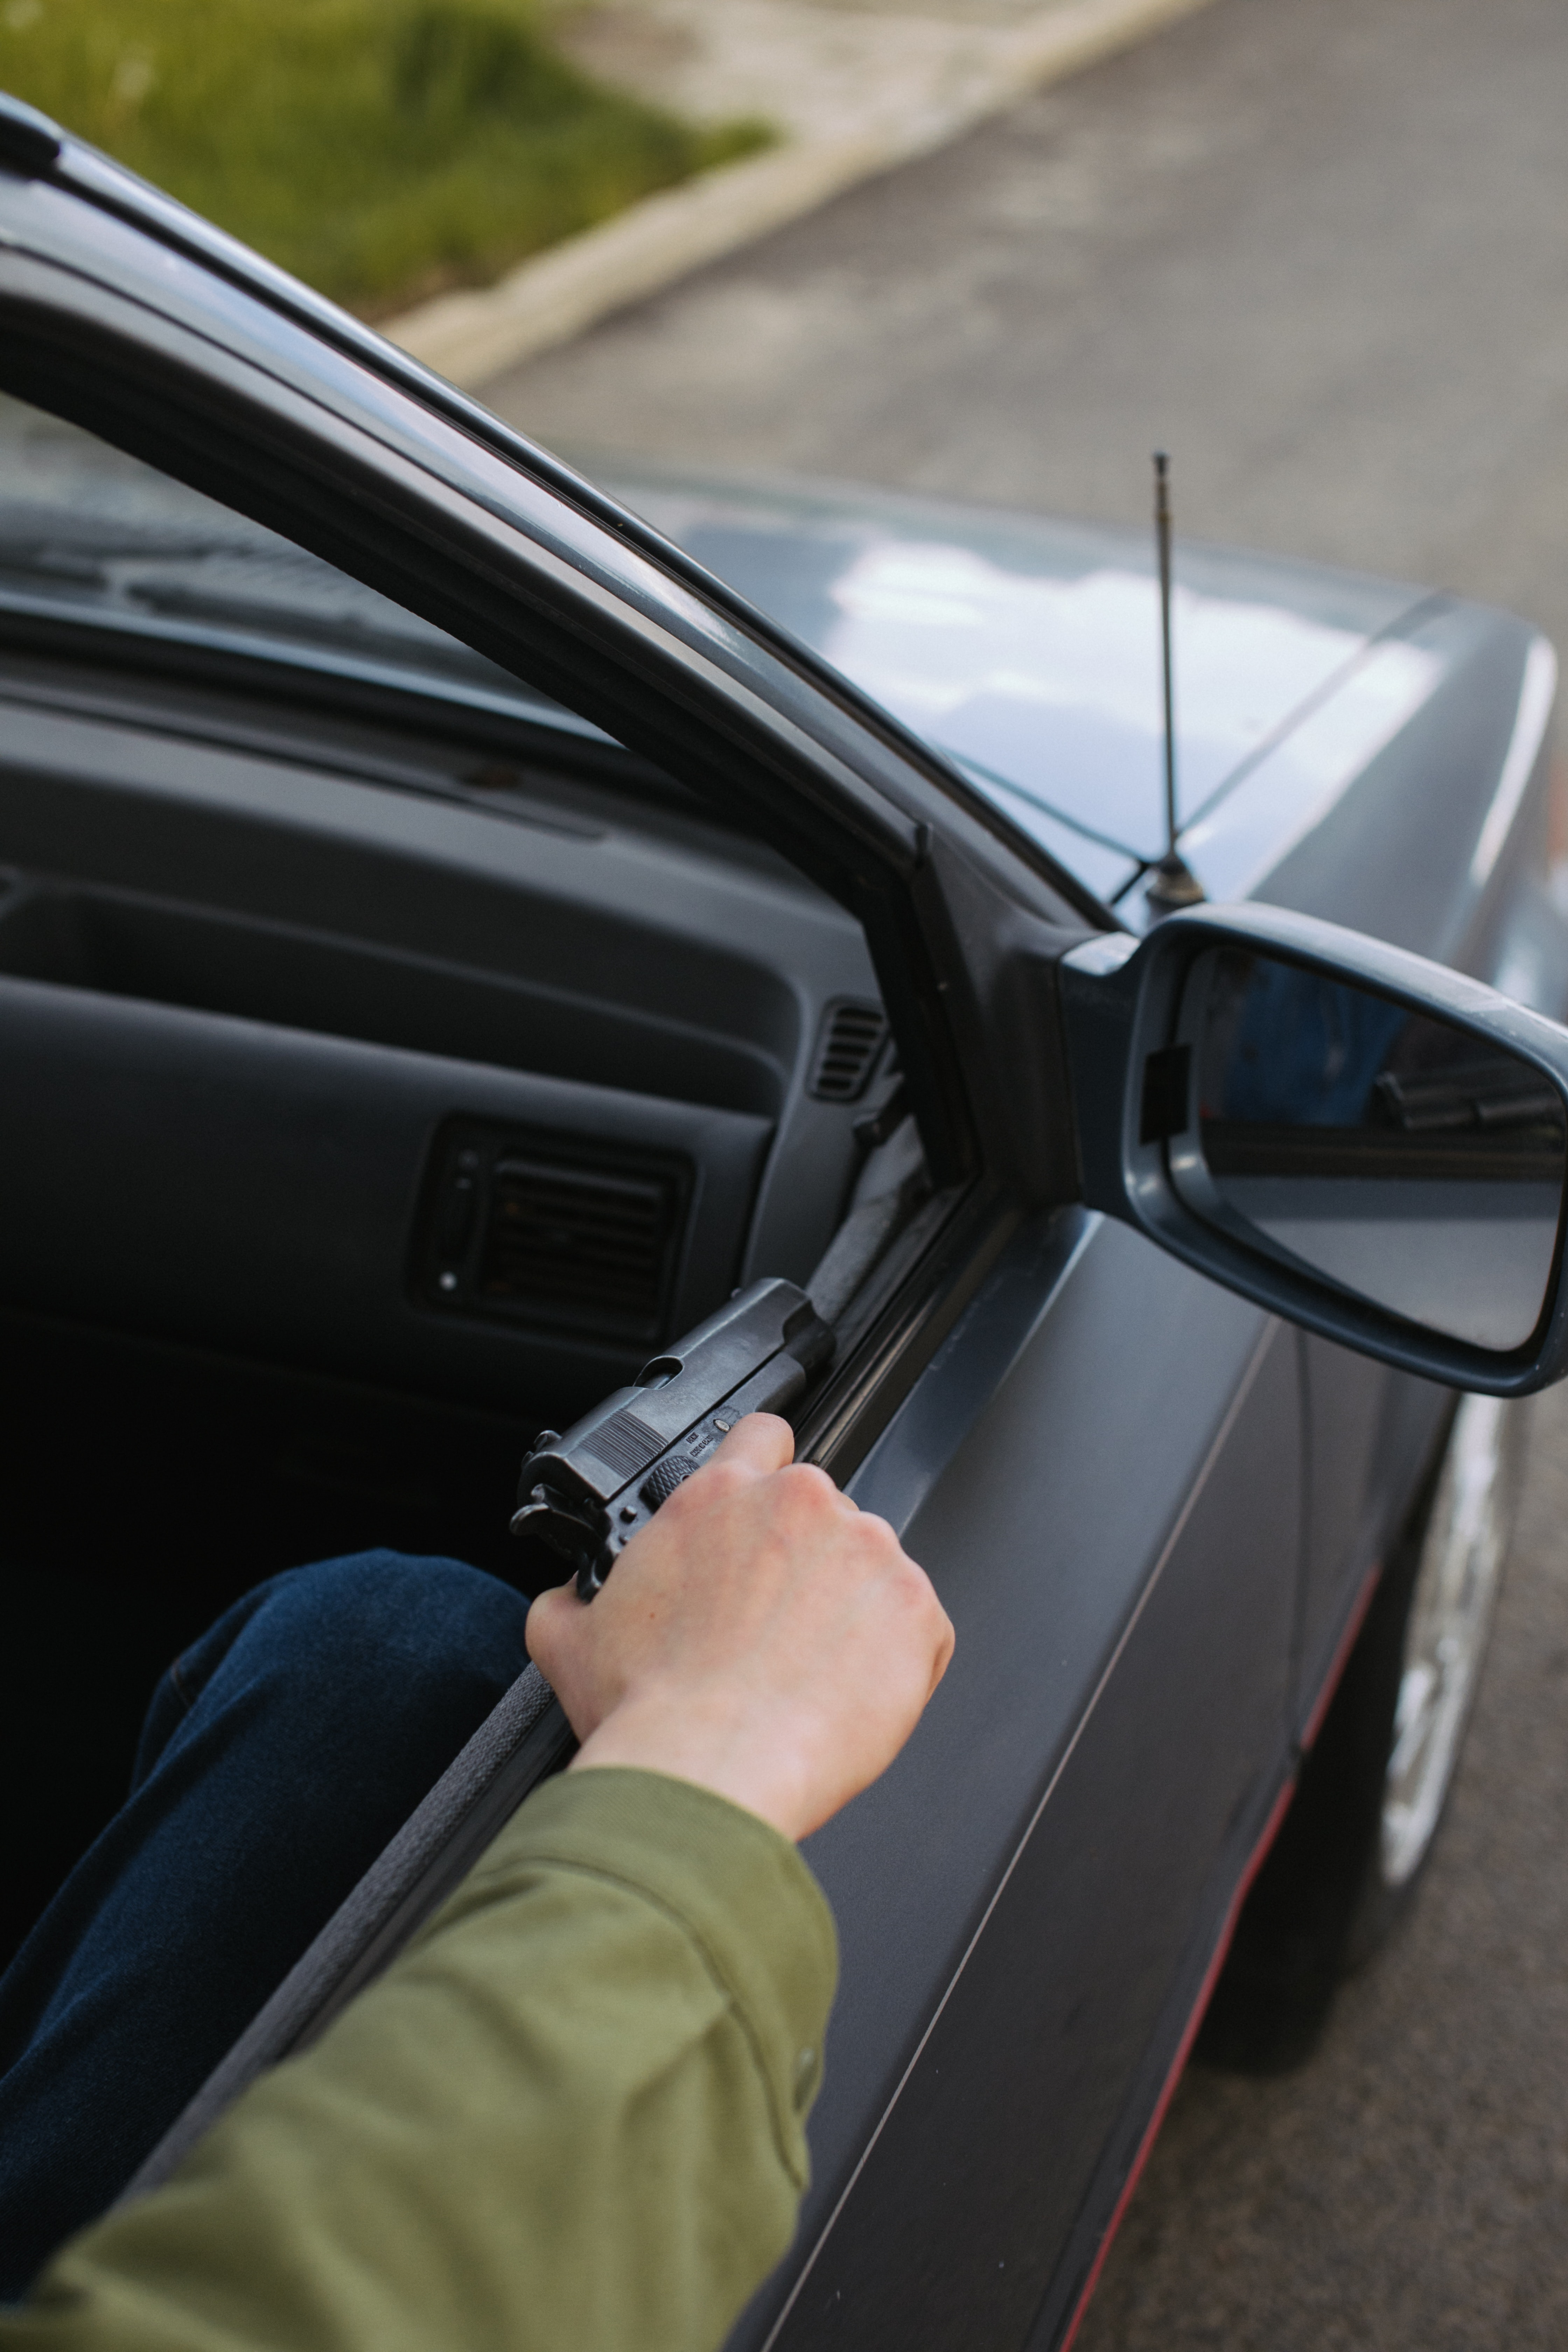gun: (485, 1274, 887, 1641)
